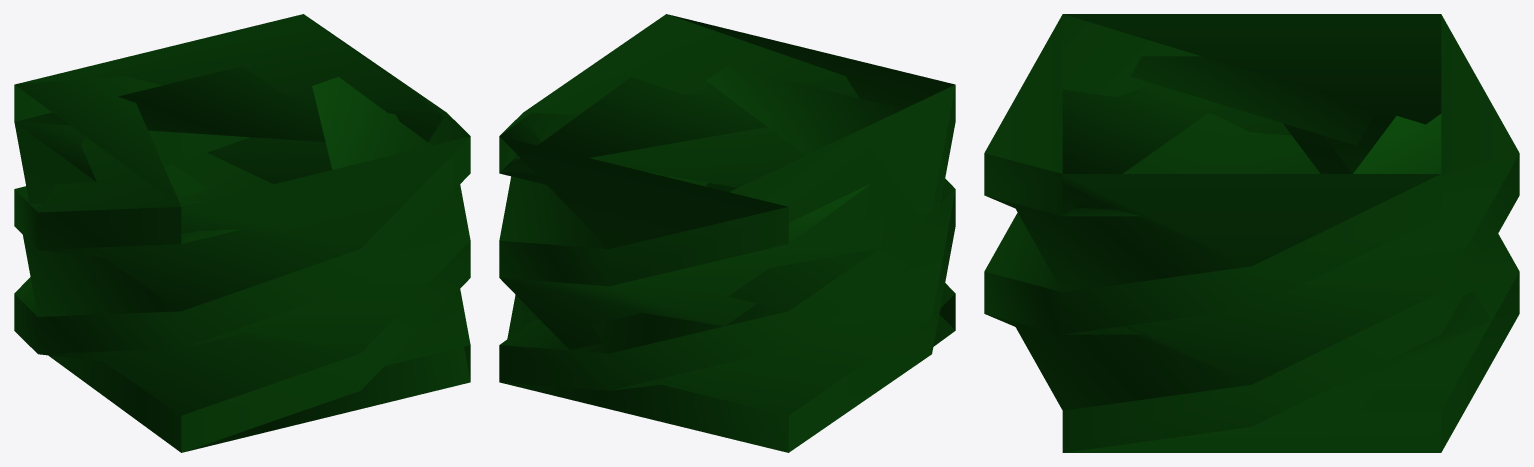
File: rubber.fbx
The picture shows the model from 3 angles, left to right: view 1: azimuth 30°, elevation 25°; view 2: azimuth 150°, elevation 25°; view 3: azimuth 270°, elevation 25°; orthographic projection. The views are drawn at different scales.
Parts seen in each view (by area): view 1: Plane; view 2: Plane; view 3: Plane.
Part boxes in pixels (x1,y1,x2,y2): Plane: (14,14,470,452); Plane: (499,14,955,452); Plane: (984,14,1519,452).
Bounding box in the file's own units: 48.19 × 27.71 × 48.19.
